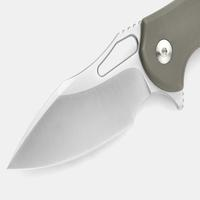knife: (3, 8, 187, 172)
